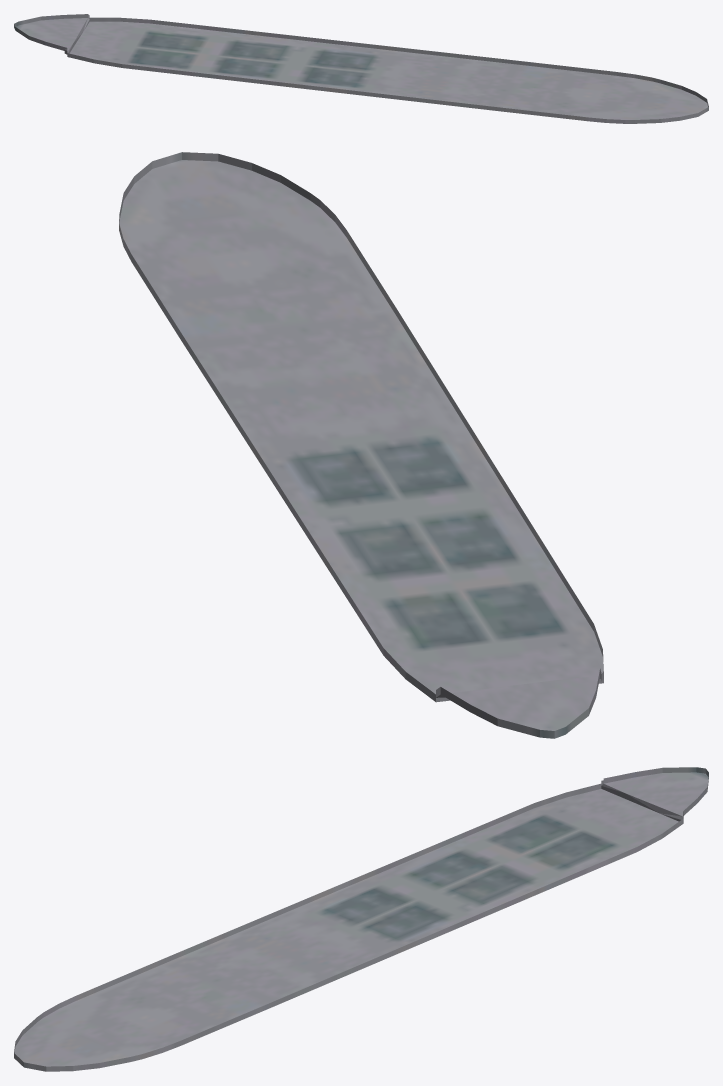
The model's file is lod_carship05.obj.
3 views of the same model, one above another, from view 1: azimuth 30°, elevation 25°; view 2: azimuth 150°, elevation 25°; view 3: azimuth 270°, elevation 25° (orthographic). The views are drawn at different scales.
Visible parts, largest first — view 1: LOD_CARSHIP05; view 2: LOD_CARSHIP05; view 3: LOD_CARSHIP05.
Boxes of the visible parts, x1,y1,x2,y2 form: LOD_CARSHIP05: (14, 14, 708, 123); LOD_CARSHIP05: (119, 152, 603, 738); LOD_CARSHIP05: (14, 767, 708, 1071).
Bounding box in the file's own units: 160 × 2.77 × 160.
1 material, 1 textured.
